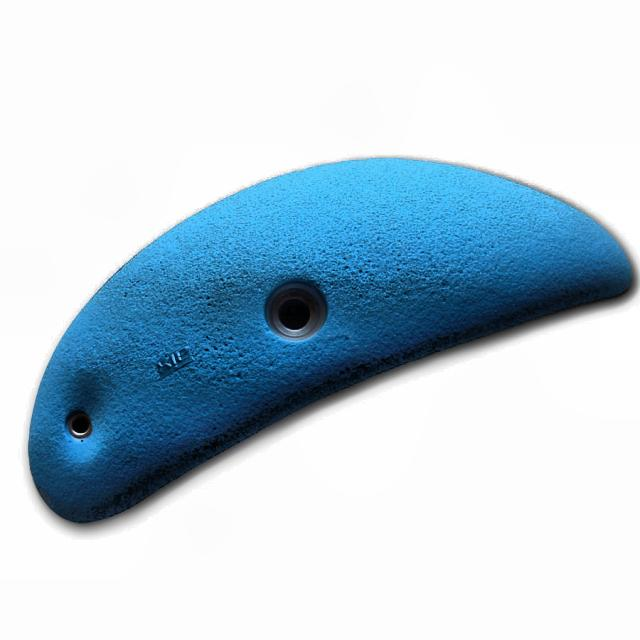Hold: (15, 135, 640, 551)
